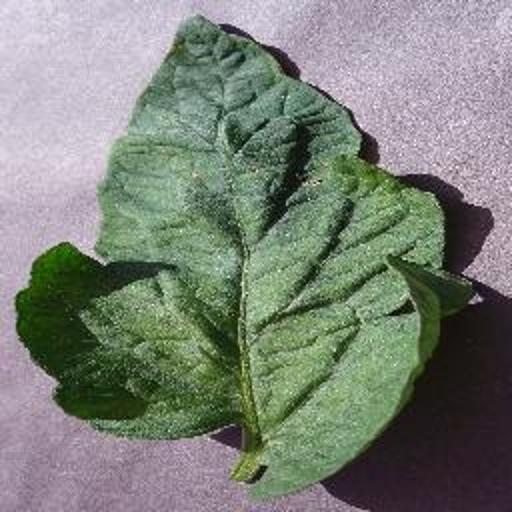Target Spot: (99, 24, 440, 504)
